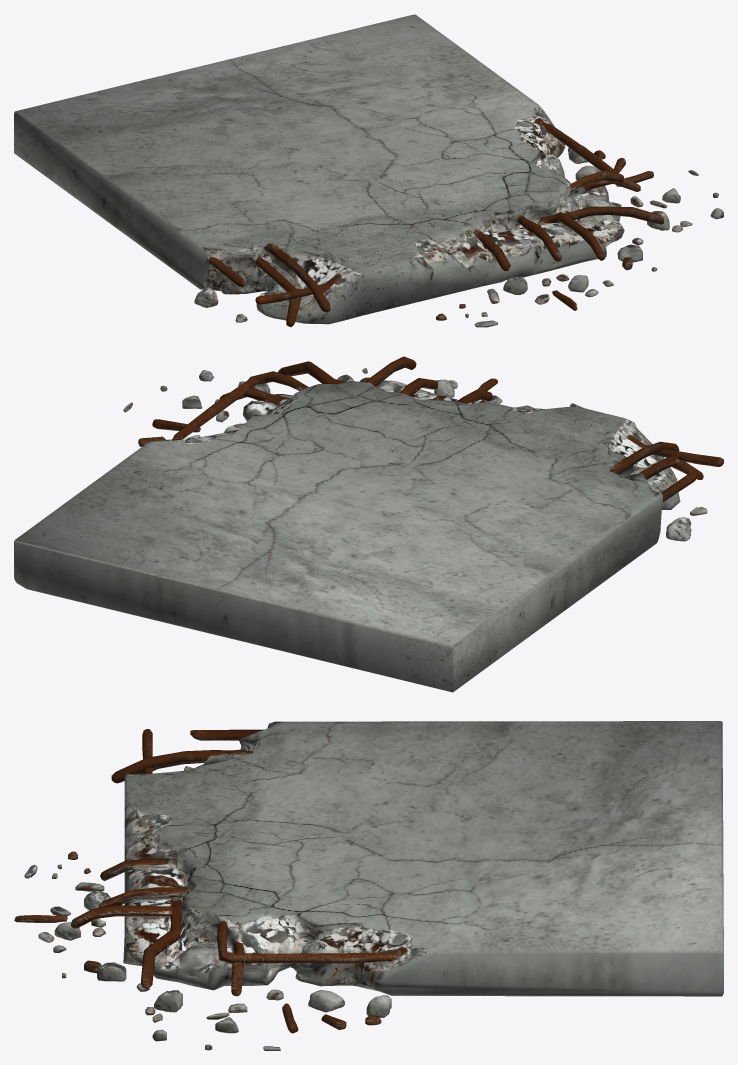
The model's file is Meshy_AI_Cracked_Concrete_Slab_0517152730_texture.fbx.
3 views of the same model, one above another, from view 1: azimuth 30°, elevation 25°; view 2: azimuth 150°, elevation 25°; view 3: azimuth 270°, elevation 25° (orthographic). The views are drawn at different scales.
Visible parts, largest first — view 1: Mesh_0; view 2: Mesh_0; view 3: Mesh_0.
Boxes of the visible parts, x1,y1,x2,y2 form: Mesh_0: (14,14,723,327); Mesh_0: (14,356,723,692); Mesh_0: (14,721,723,1050).
Size of the model in its own units: 185 by 16.83 by 191.
1 material, 1 textured.
